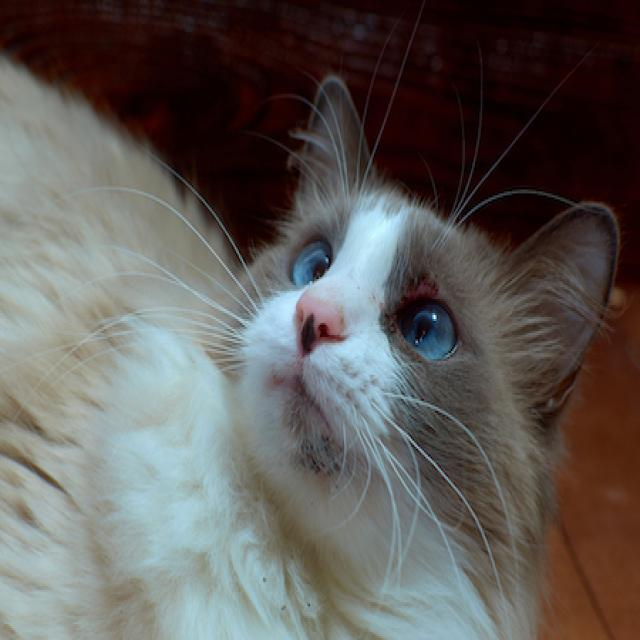cat-dermatitis: (293, 435, 351, 479), (394, 272, 441, 304)
